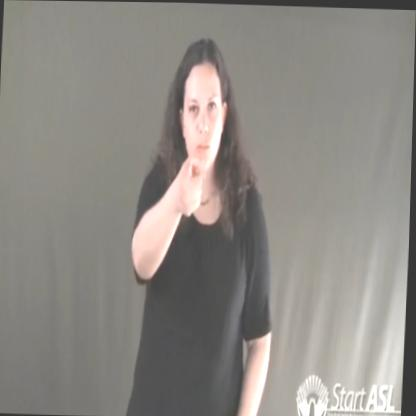HowAreYou: (161, 145, 220, 235)
